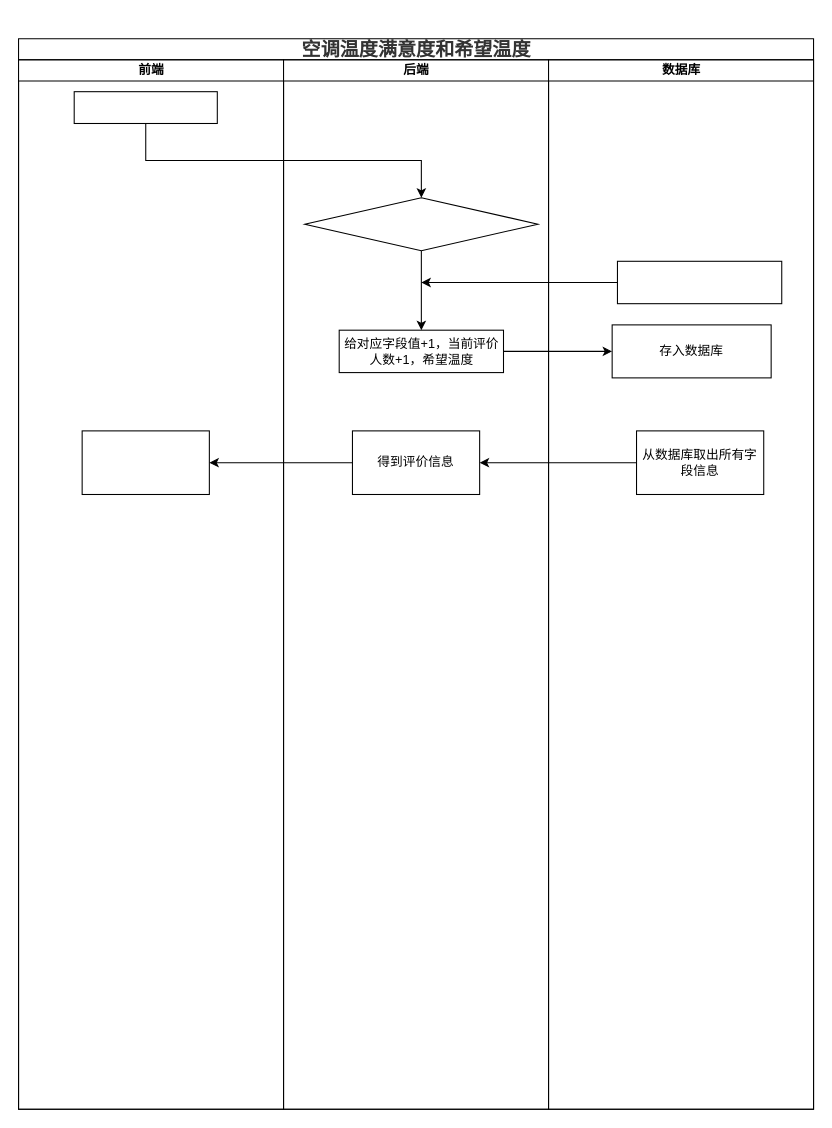
The diagram is 832 pixels wide and 1128 high, and some of its shapes have lost their labels. The box of each missing label's shape, as (x1, y1, x2, y2) in pixels:
不满意or有点不满or正常or很满意: (304, 197, 538, 251)
取出当前字段值和评价人数: (616, 260, 782, 304)
对评价信息进行展示: (81, 430, 209, 494)
接收用户数据: (73, 91, 217, 123)
